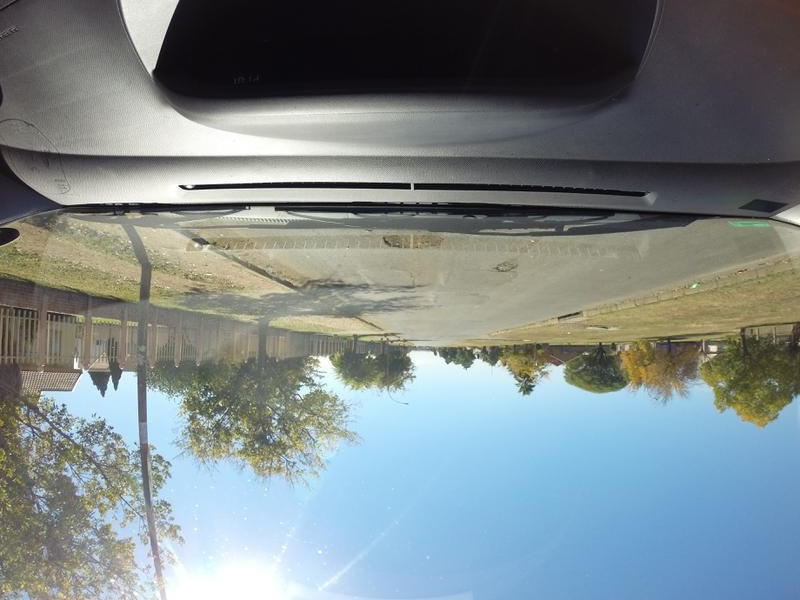pothole: (376, 234, 464, 259), (492, 260, 524, 274)
